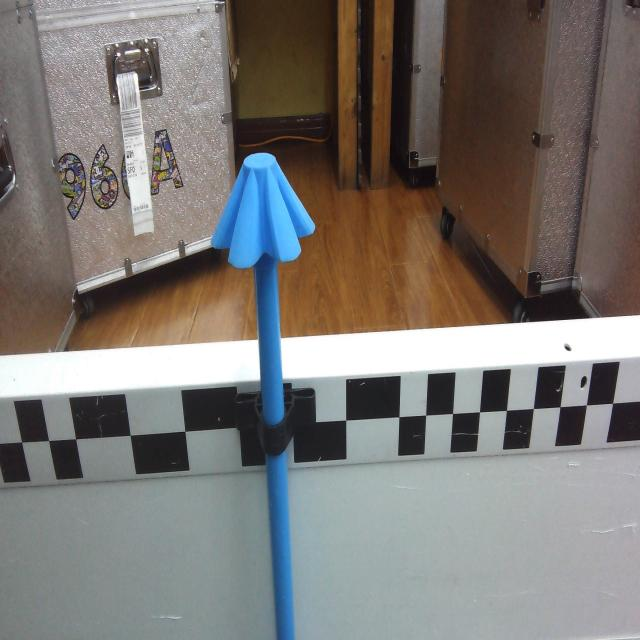zblue-Stake-Head: (210, 152, 316, 268)
